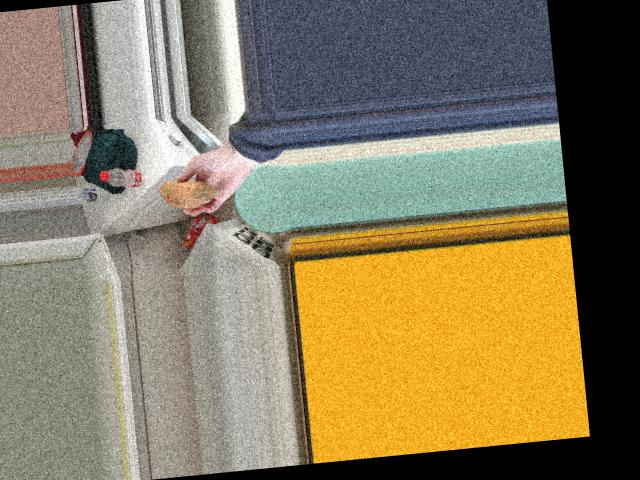sweet_potato: (154, 173, 223, 207)
